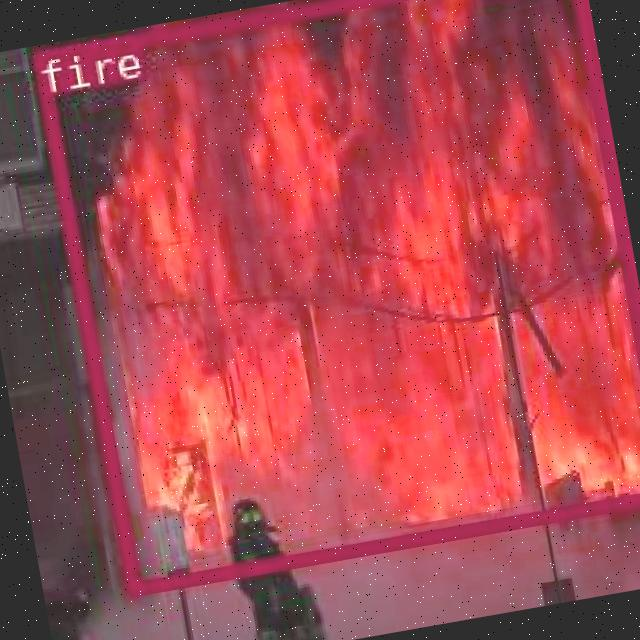fire: (30, 0, 640, 592)
